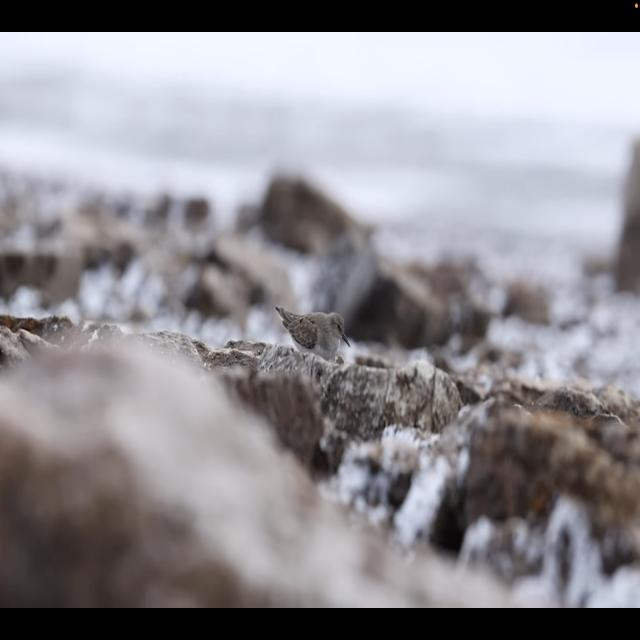beak: (340, 332, 350, 348)
bird: (274, 303, 353, 367)
